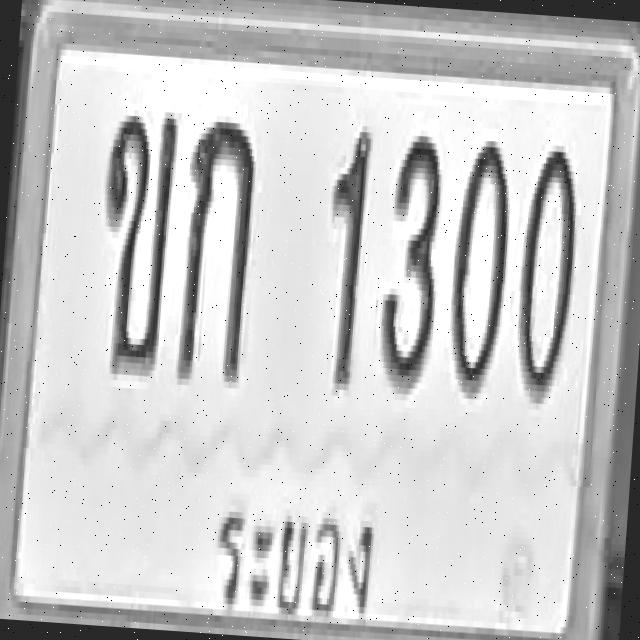0: (444, 130, 514, 397), (512, 138, 582, 398)
1: (318, 121, 372, 387)
10GorGai: (176, 114, 258, 382)
11KhorKhai: (91, 105, 178, 374)
3: (376, 125, 446, 392)
Rayong: (201, 470, 387, 632)
